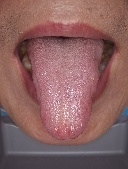tongue: (26, 43, 103, 141)
